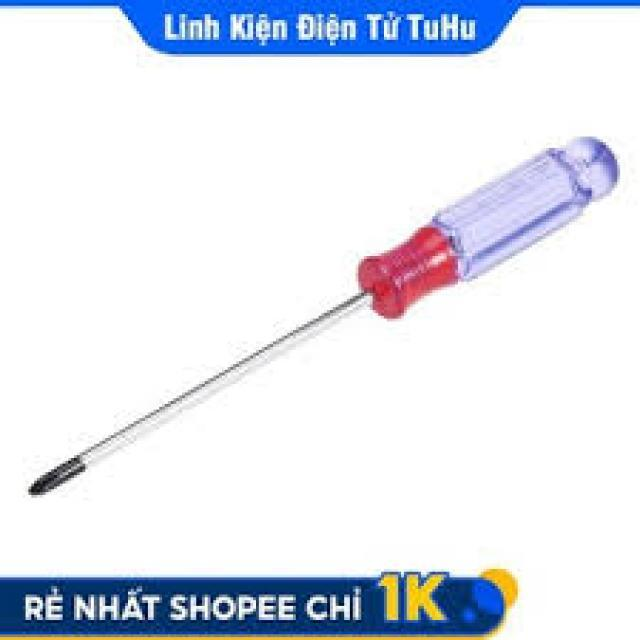screwdriver: (25, 132, 620, 499)
